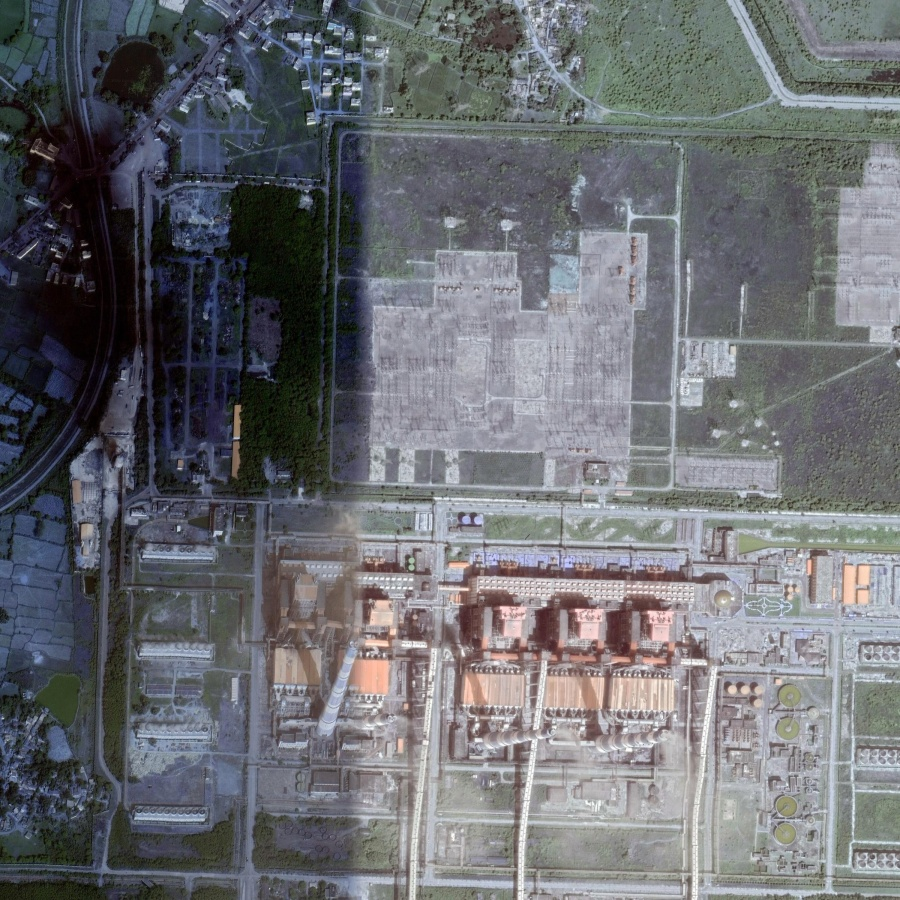PowerPlant: (248, 494, 710, 836)
